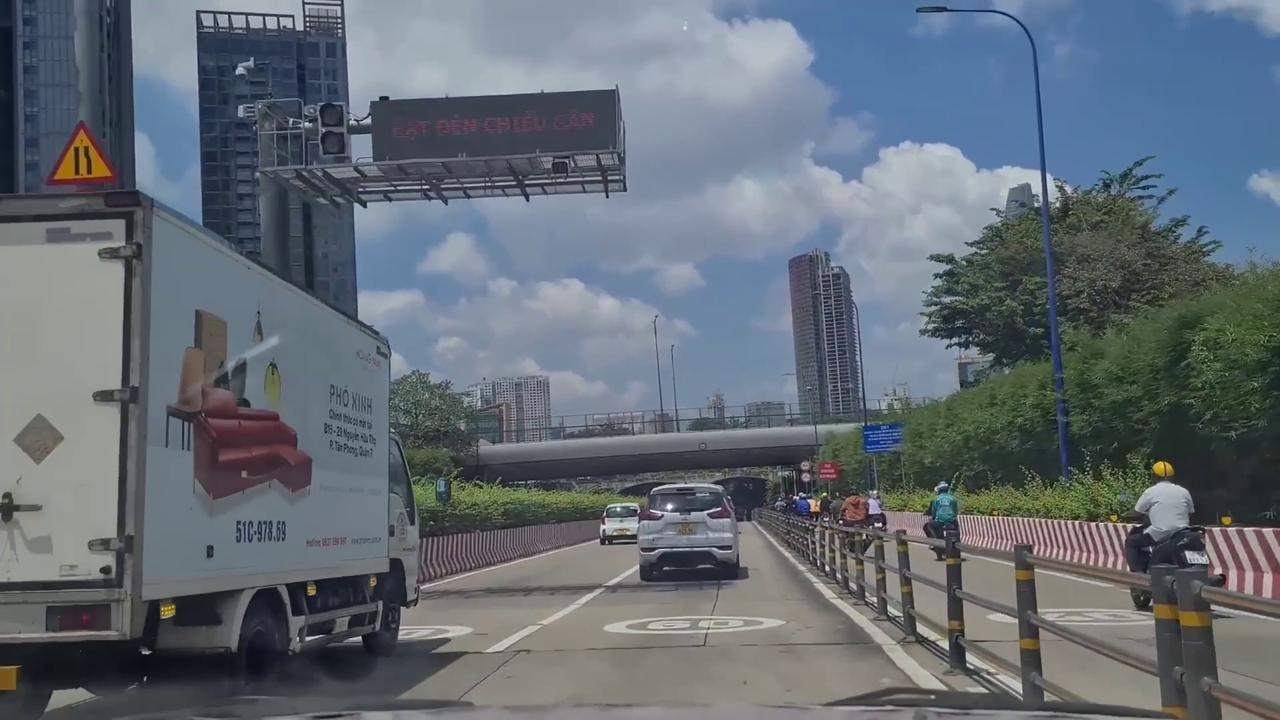Đuờng hẹp: (48, 120, 119, 186)
